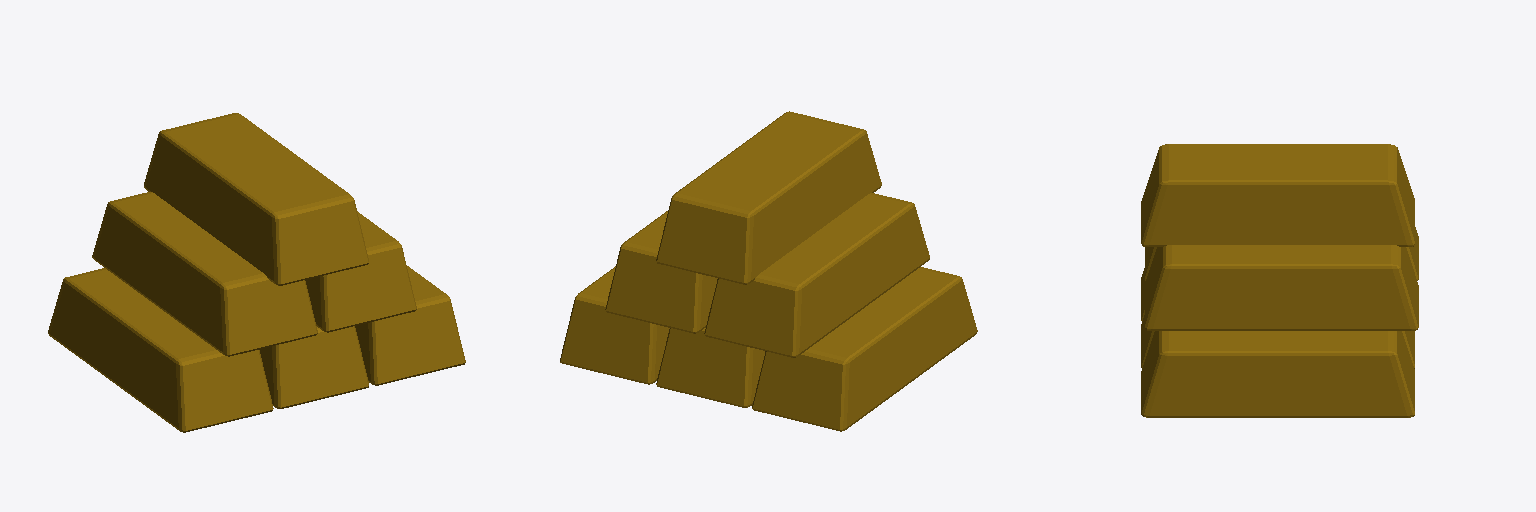
File: Gold.obj
The picture shows the model from 3 angles: view 1: azimuth 30°, elevation 25°; view 2: azimuth 150°, elevation 25°; view 3: azimuth 270°, elevation 25°; orthographic projection.
Bounding box in the file's own units: 0.72 × 0.4517 × 0.6072.